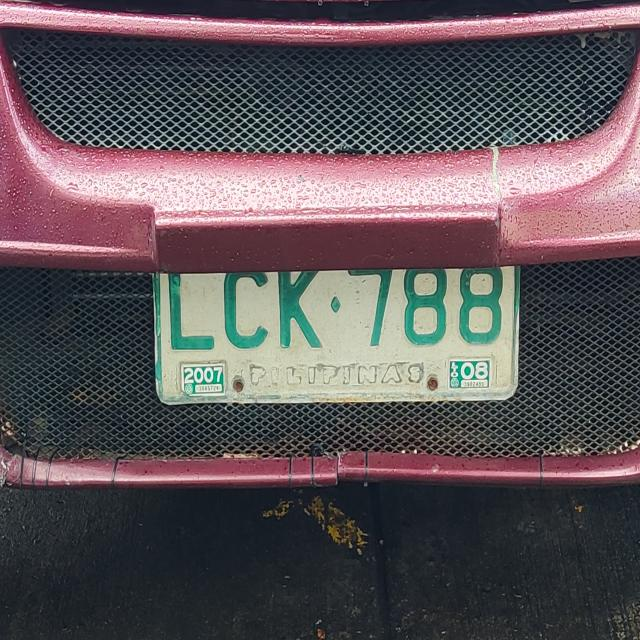plate: (148, 235, 527, 412)
